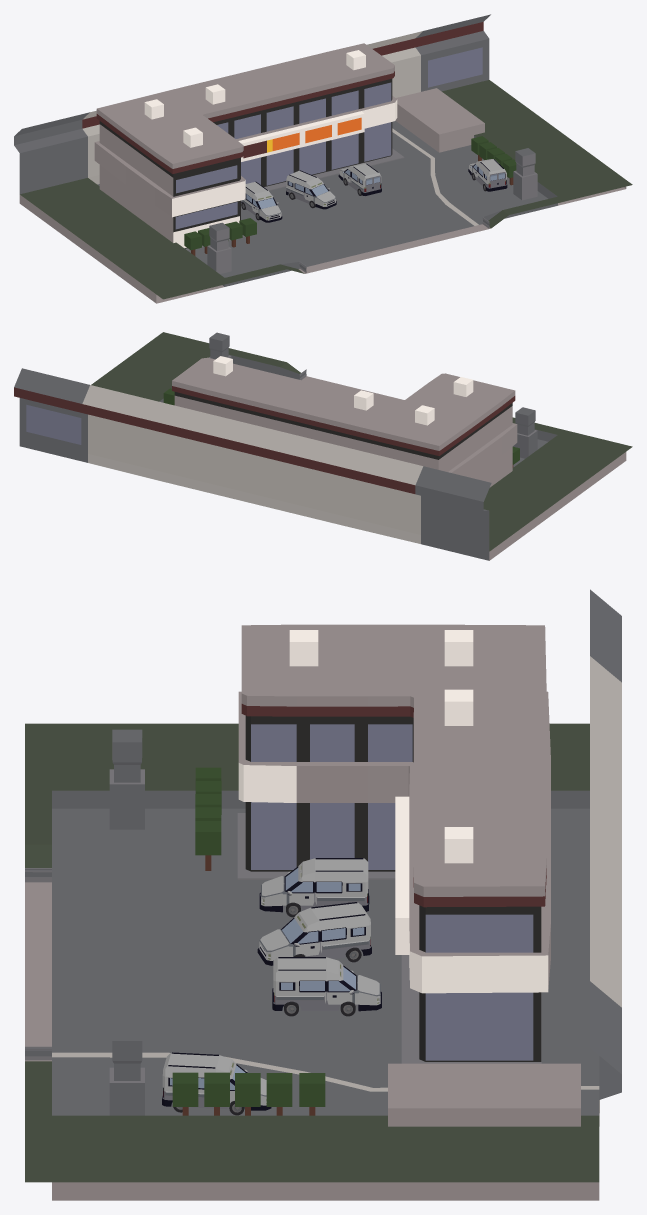
The model's file is Bank.glb.
3 renders of one model, top to bottom at view 1: azimuth 30°, elevation 25°; view 2: azimuth 150°, elevation 25°; view 3: azimuth 270°, elevation 25°, orthographic. The views are drawn at different scales.
Visible parts, largest first — view 1: ROAD, BANK_MAIN, AUTO_SERVICE, TREES, A_C, VAN_BODY.002, VAN_BODY, VAN_BODY.001, VAN_BODY.003, SIDE_WALK; view 2: ROAD, BANK_MAIN, A_C; view 3: ROAD, BANK_MAIN, AUTO_SERVICE, TREES, VAN_BODY.001, VAN_BODY.002, VAN_BODY, A_C, SIDE_WALK, VAN_BODY.003.
Boxes of the visible parts, box(x1,y1,x2,y2) form: ROAD: box(14, 14, 632, 303); BANK_MAIN: box(94, 43, 397, 248); AUTO_SERVICE: box(395, 88, 484, 152); TREES: box(184, 136, 516, 255); A_C: box(144, 50, 365, 147); VAN_BODY.002: box(286, 170, 336, 209); VAN_BODY: box(241, 181, 282, 222); VAN_BODY.001: box(338, 163, 381, 195); VAN_BODY.003: box(468, 159, 507, 191); SIDE_WALK: box(185, 148, 404, 250); ROAD: box(14, 332, 632, 560); BANK_MAIN: box(172, 357, 517, 487); A_C: box(213, 356, 473, 425); ROAD: box(25, 589, 621, 1200); BANK_MAIN: box(238, 624, 550, 1061); AUTO_SERVICE: box(388, 1063, 580, 1126); TREES: box(172, 767, 325, 1115); VAN_BODY.001: box(272, 957, 381, 1011); VAN_BODY.002: box(257, 902, 371, 965); VAN_BODY: box(259, 858, 369, 912); A_C: box(289, 630, 473, 863); SIDE_WALK: box(237, 813, 541, 1063); VAN_BODY.003: box(162, 1052, 271, 1110).
Size of the model in its own units: 49.68 by 10.43 by 27.33.
